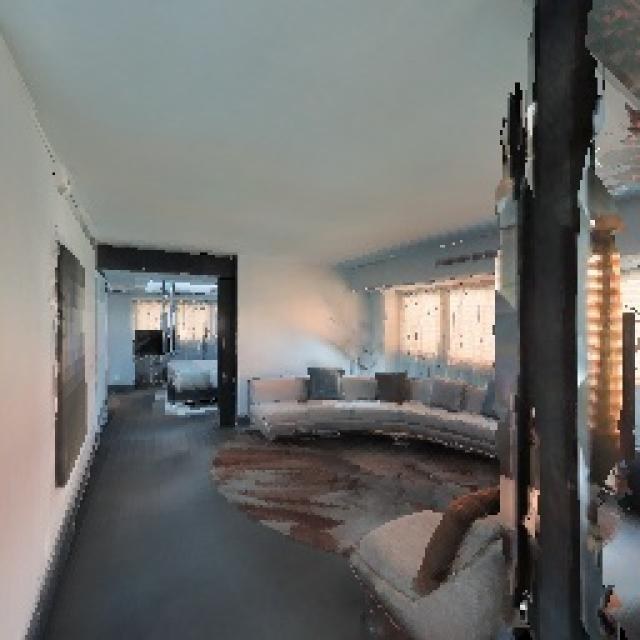door-frame: (79, 254, 240, 444)
sofa: (247, 354, 516, 473), (358, 461, 524, 640)
